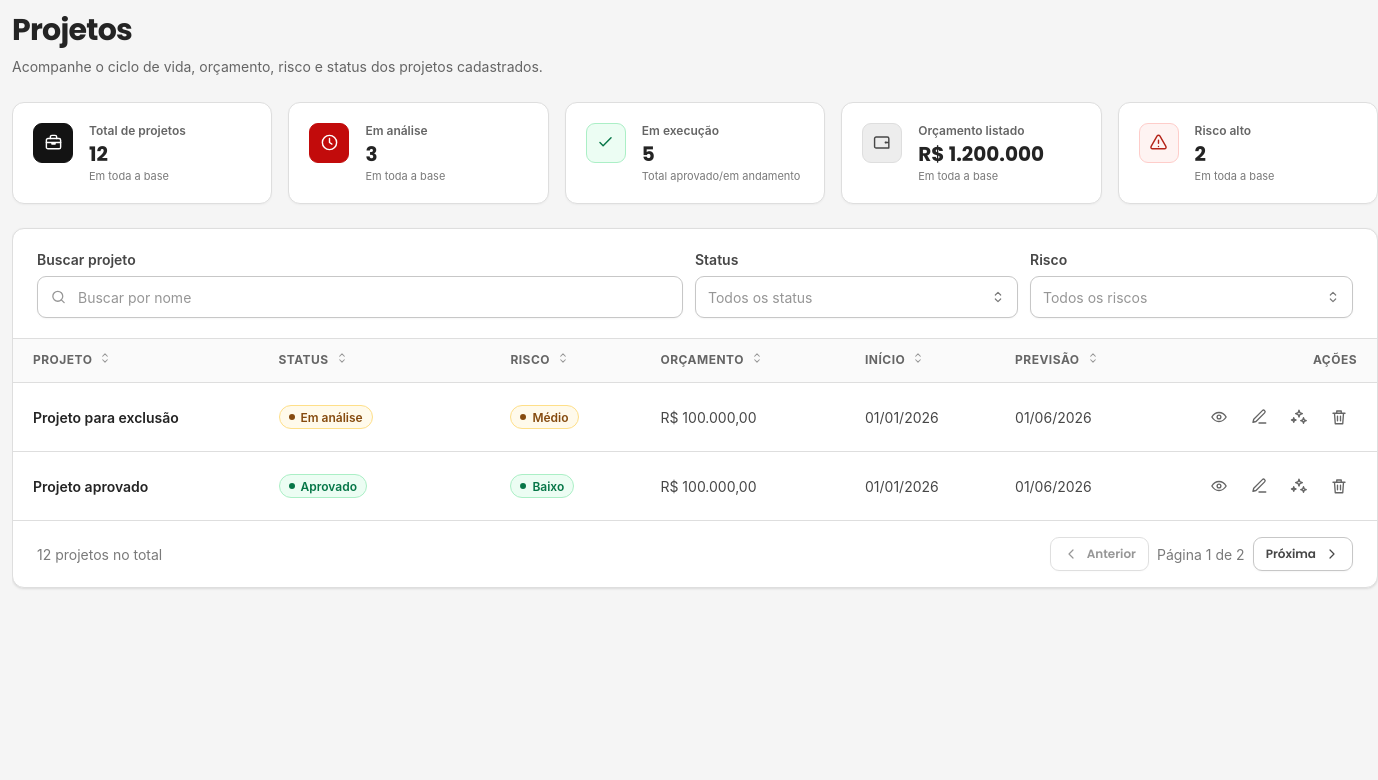
Test: ProjectListPage › debounces name search and finds a project that was outside the first page
Check: the link "Projeto aprovado" is shown, box x1=33 y1=478 x2=148 y2=495
In the search field labelled "Buscar projeto": (360, 297) x1=37 y1=276 x2=683 y2=318, type "Especial"
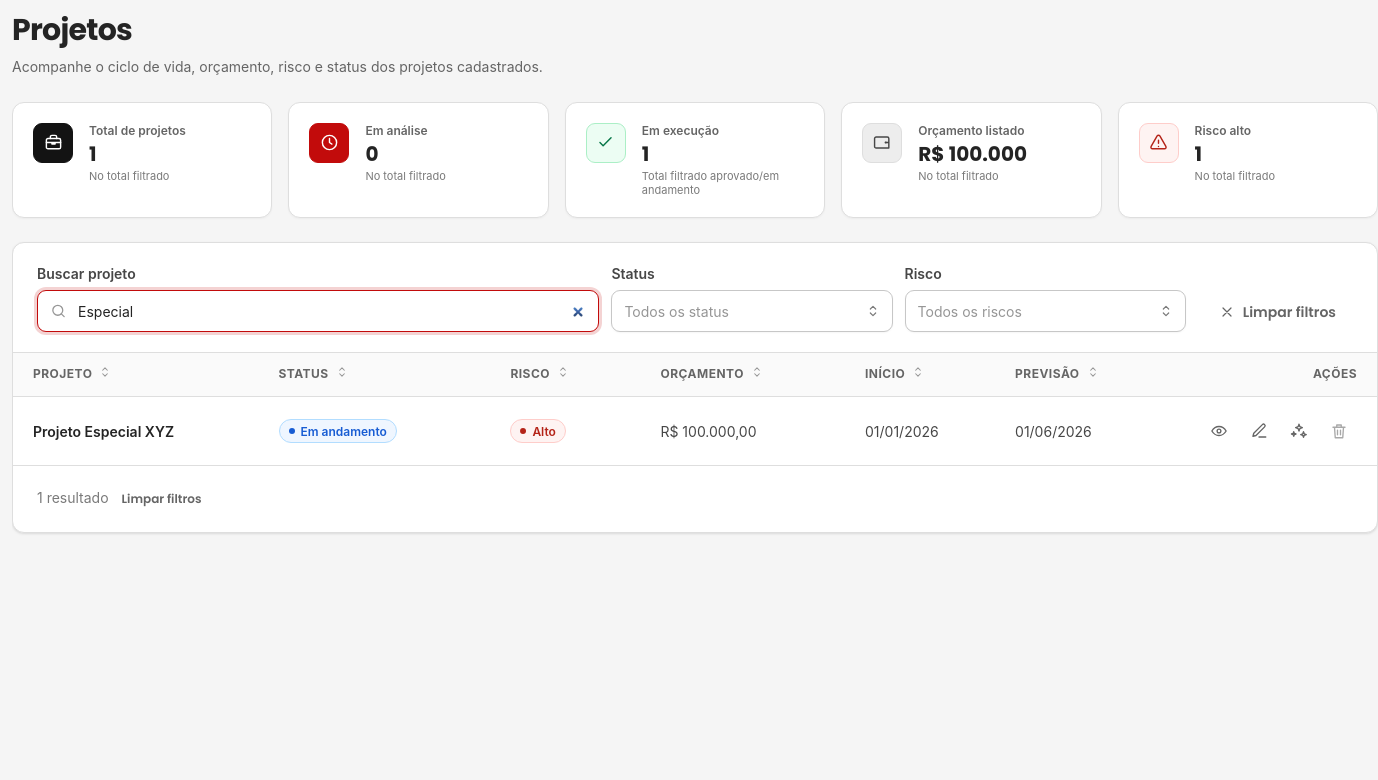
Check: the text "Total de projetos" is shown, box x1=89 y1=123 x2=186 y2=138
Check: the link "Projeto Especial XYZ" is shown, box x1=33 y1=423 x2=174 y2=440
